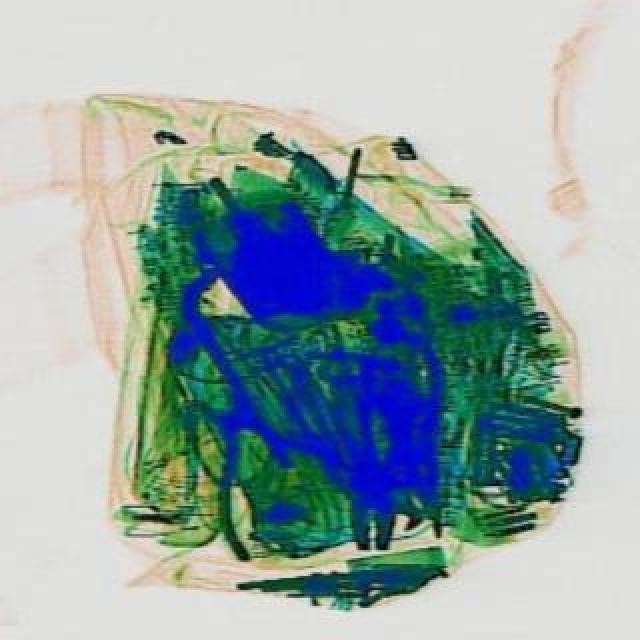wrench: (152, 358, 364, 562), (328, 382, 412, 550)
